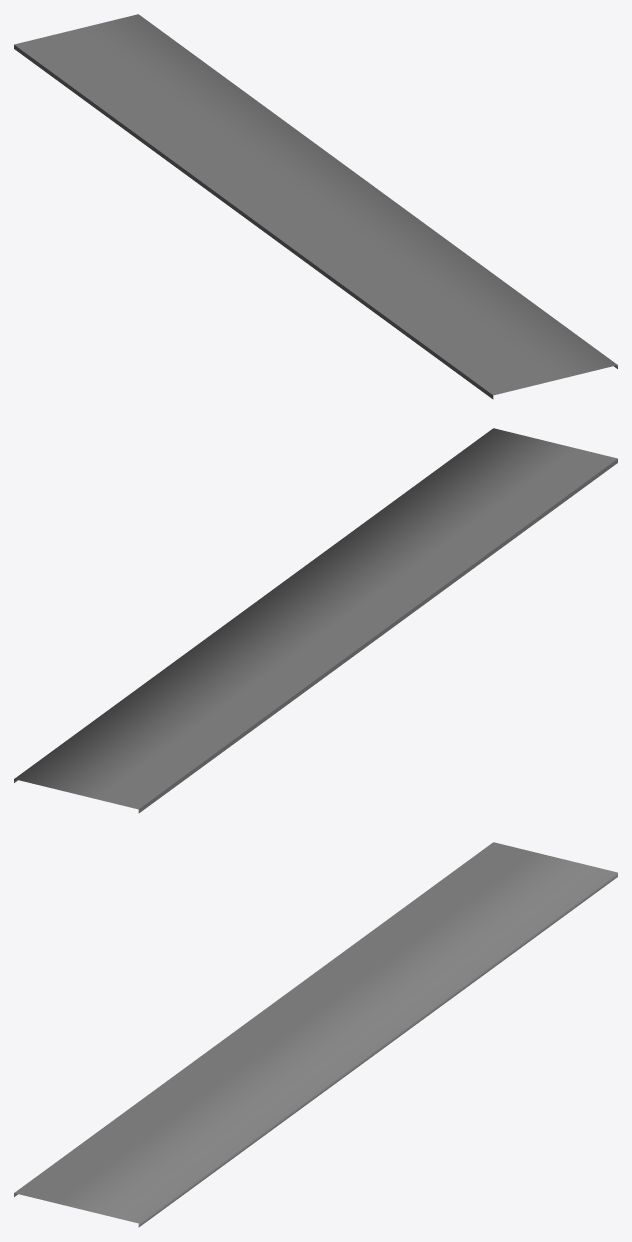
File: q-scifi-mod-bottomsimple-straight.glb
The picture shows the model from 3 angles, top to bottom: view 1: azimuth 30°, elevation 25°; view 2: azimuth 150°, elevation 25°; view 3: azimuth 330°, elevation 25°; orthographic projection.
Parts seen in each view (by area): view 1: BottomSimple_Straight; view 2: BottomSimple_Straight; view 3: BottomSimple_Straight.
Boxes of the visible parts, x1,y1,x2,y2 form: BottomSimple_Straight: (14,14,617,399); BottomSimple_Straight: (14,428,617,813); BottomSimple_Straight: (14,842,617,1227).
Bounding box in the file's own units: 0.6 × 0.02 × 4.
1 material, 1 textured.
